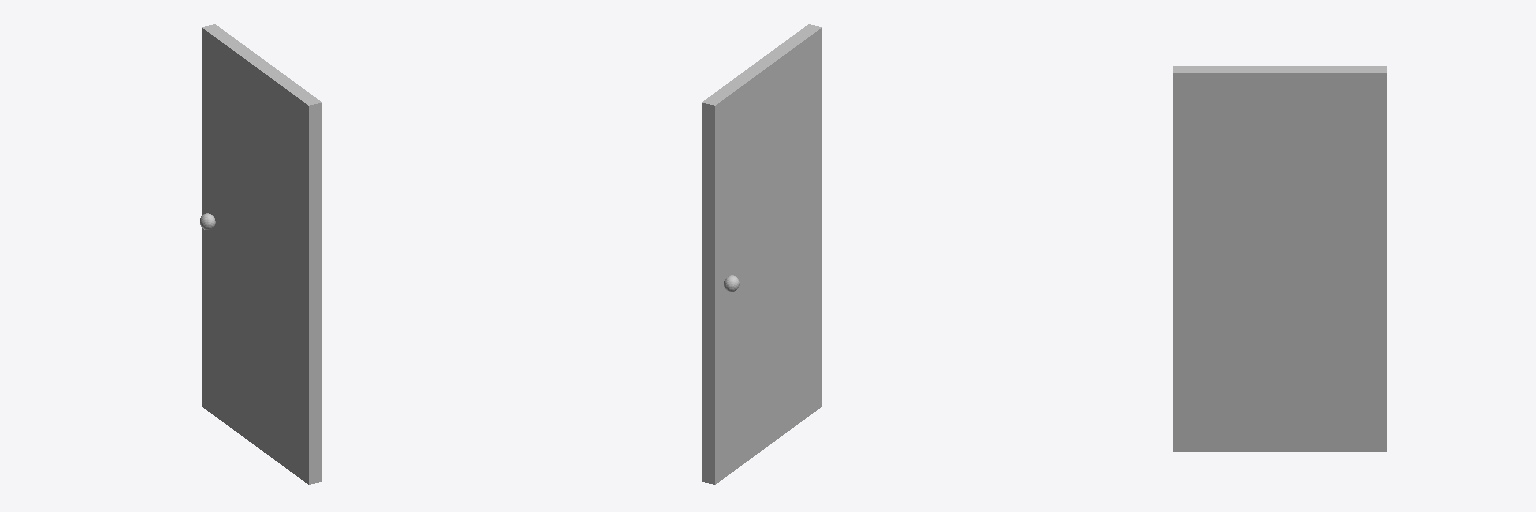
File: Door2.obj
3 views of the same model, side by side, from view 1: azimuth 30°, elevation 25°; view 2: azimuth 150°, elevation 25°; view 3: azimuth 270°, elevation 25° (orthographic).
Visible parts, largest first — view 1: Door_Cube.005; view 2: Door_Cube.005; view 3: Door_Cube.005.
Part boxes in pixels (x1,y1,x2,y2): Door_Cube.005: (200,24,321,484); Door_Cube.005: (702,24,821,484); Door_Cube.005: (1173,66,1386,451).
Size of the model in its own units: 0.1517 by 2.15 by 1.1.